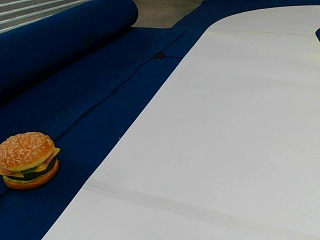burger: (0, 130, 59, 188)
